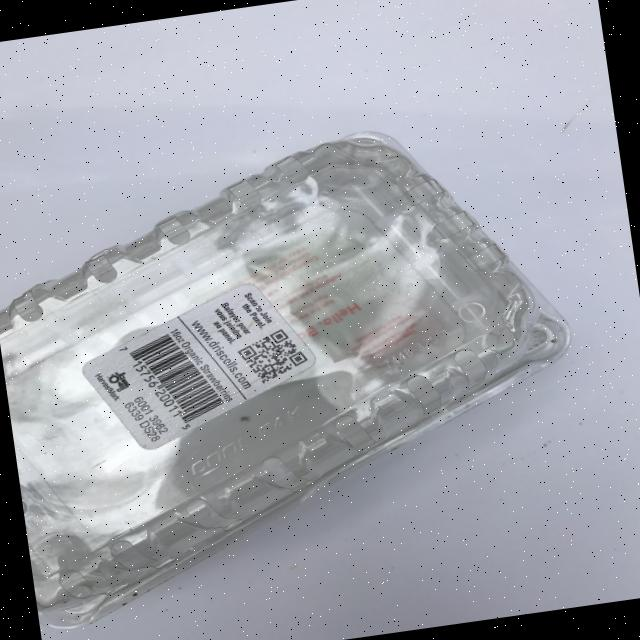plastic: (0, 105, 603, 633)
